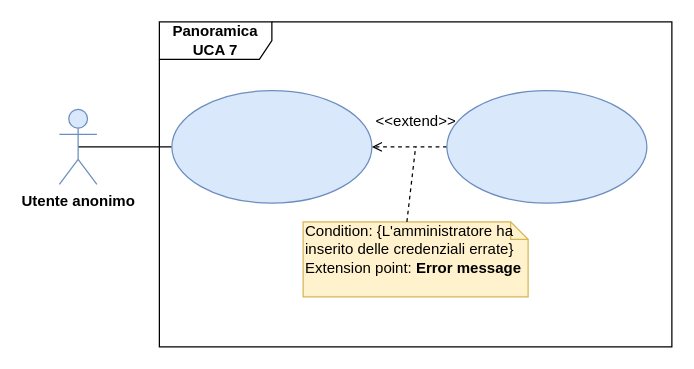
This 694x369 diagram has some shape labels left out. Here are the shapes that lost their labels. From the top down, the centre of each, then its label:
At point 271,146: "UCA 7.1 Inserimento credenziali ___________________ Extension point: UCA 8.7.1".
At point 546,146: "UCA 8.7.1 Visualizzazione messaggio di errore credenziali LDAP aziendali errate".
